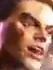kevin: (5, 0, 52, 69)
